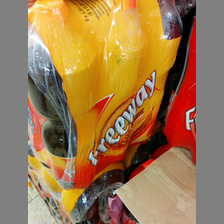soda: (29, 1, 182, 191)
